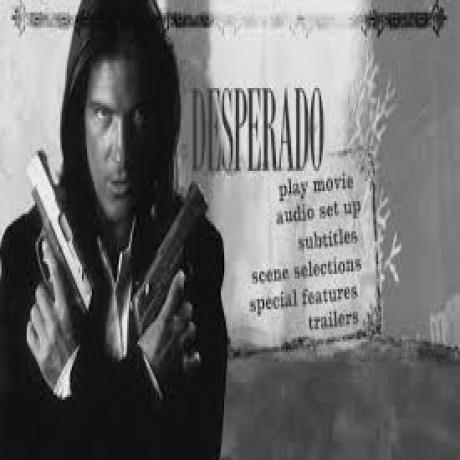Guns: (130, 179, 203, 371), (26, 145, 98, 327)
